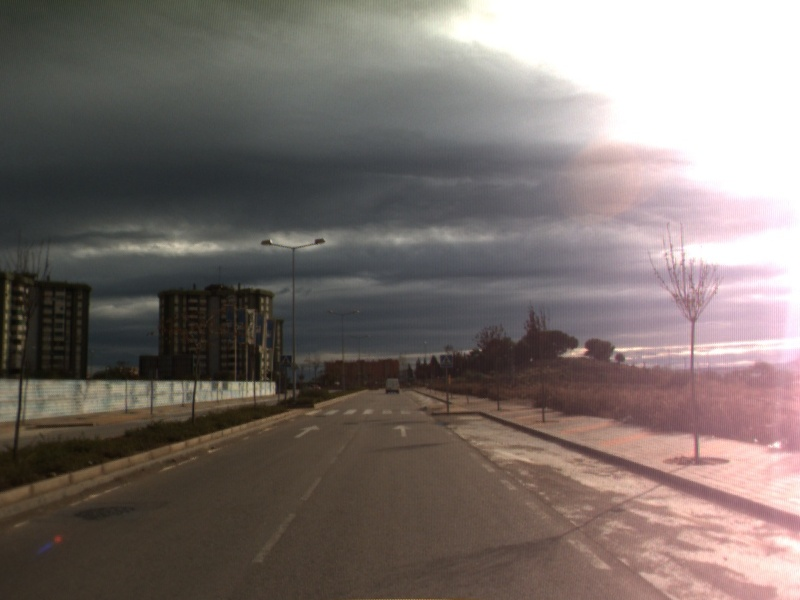STRAIGHT: (292, 423, 322, 440), (391, 422, 415, 438)
